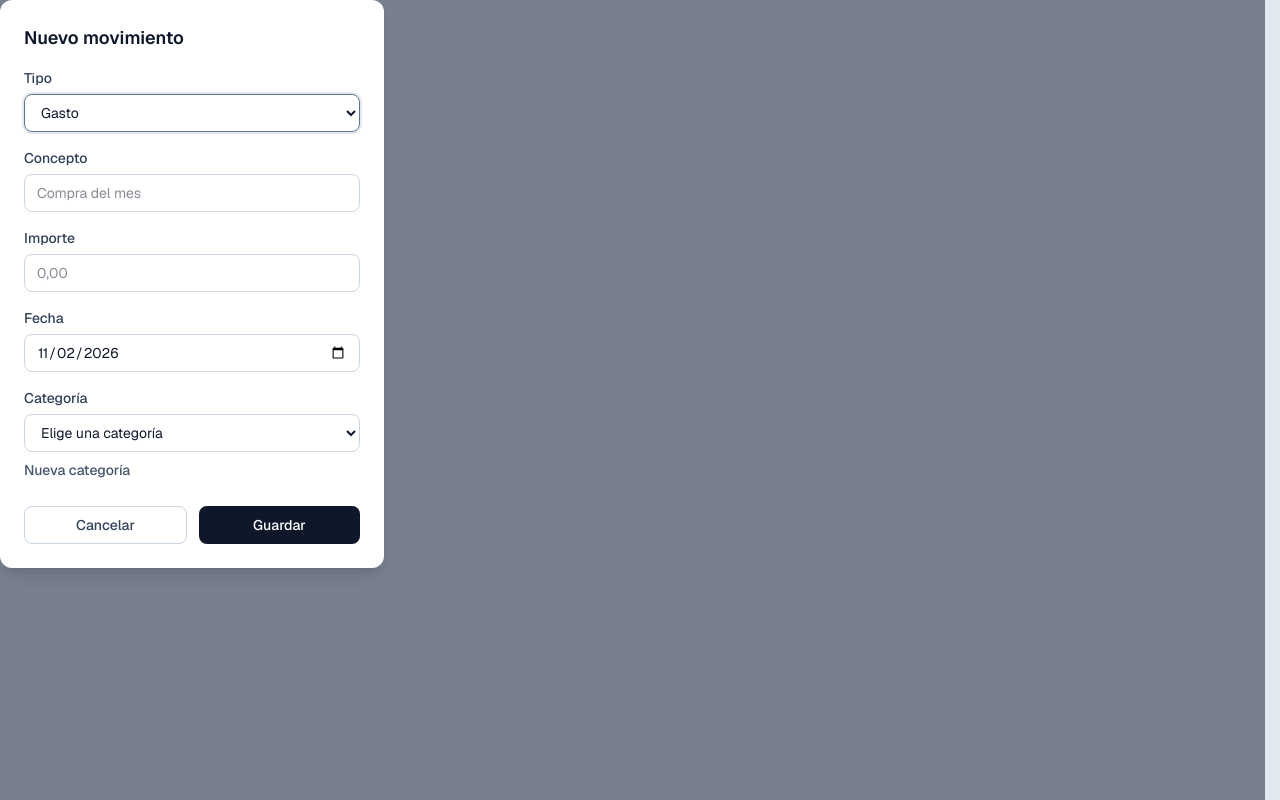
TransactionDialog, categories › creates a category with Enter without submitting the transaction
Click the button "Nueva categoría" at (77, 470), box [24,460,130,480]
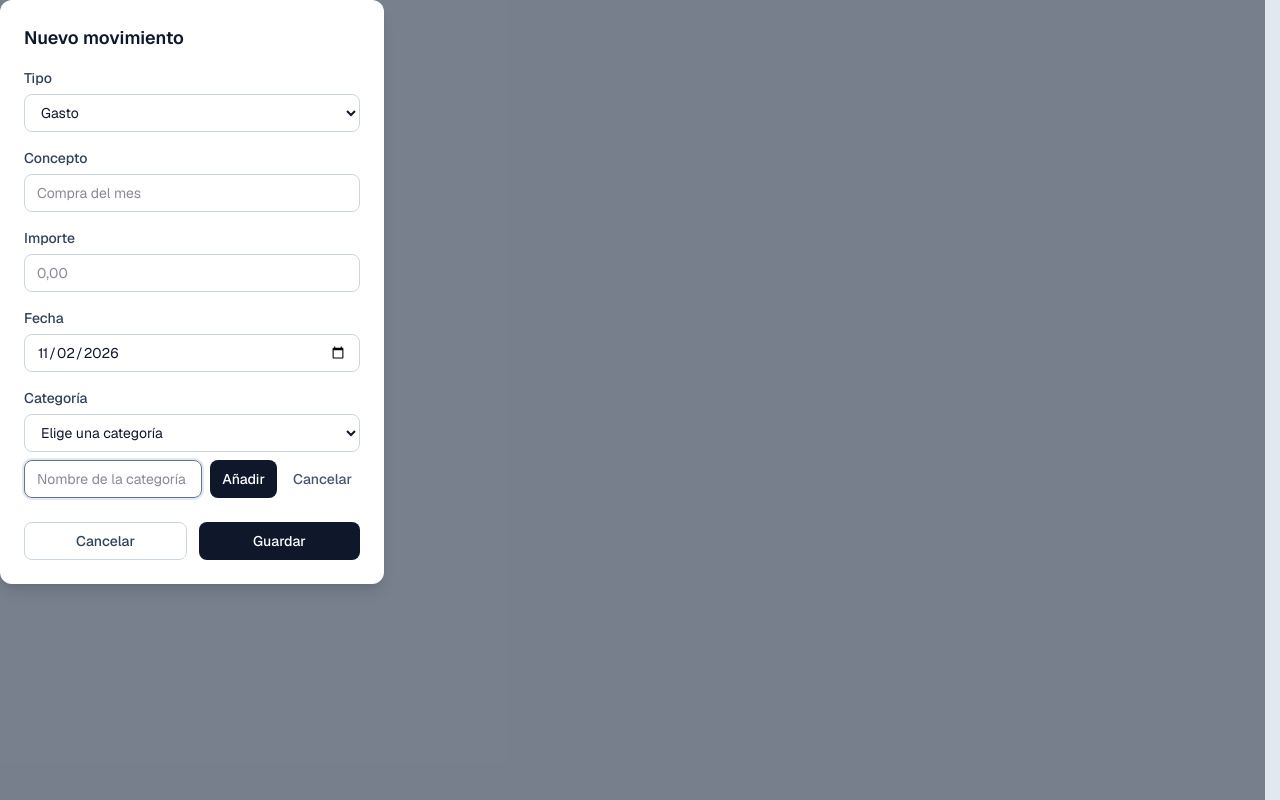
Type "Farmacia" into the field named "Nueva categoría" at (113, 479), box [24,460,202,498]
Then press Enter
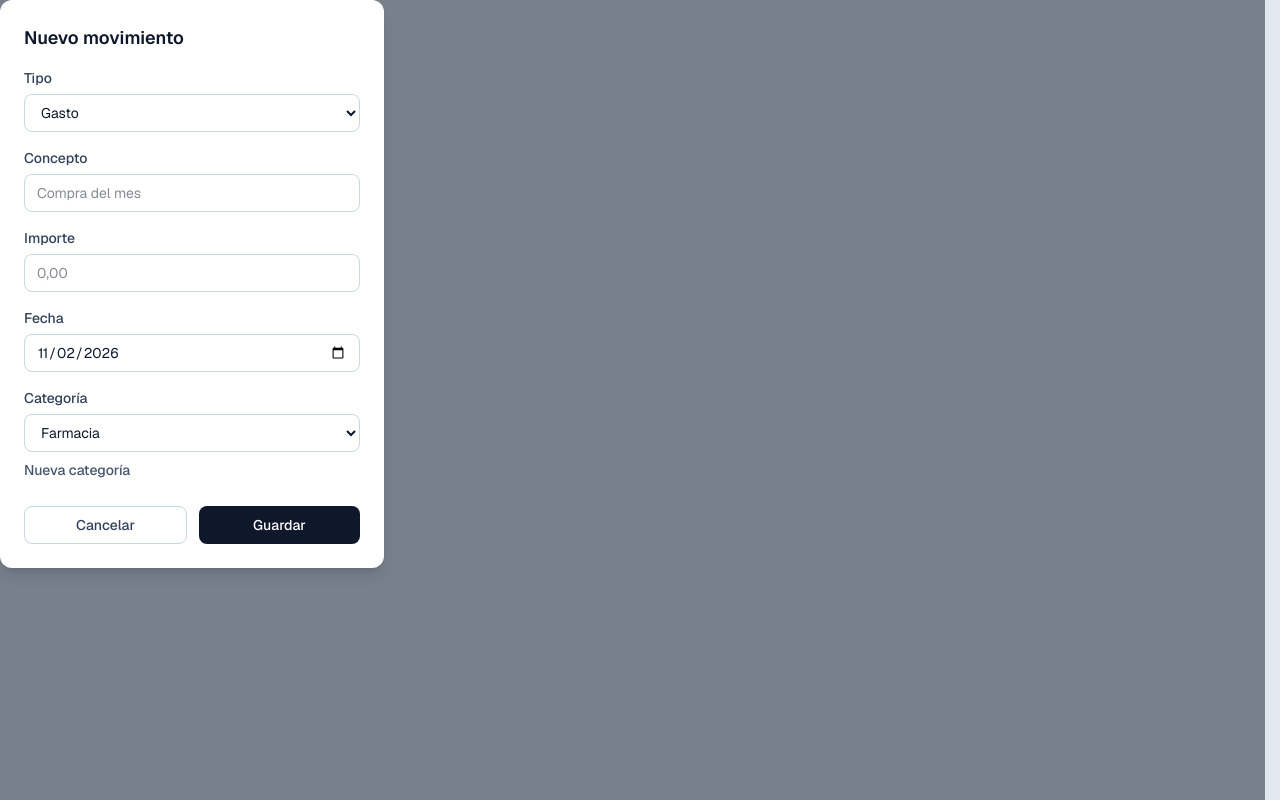
Expected: the dropdown labelled "Categoría" shows "Farmacia", [24,414,360,452]
